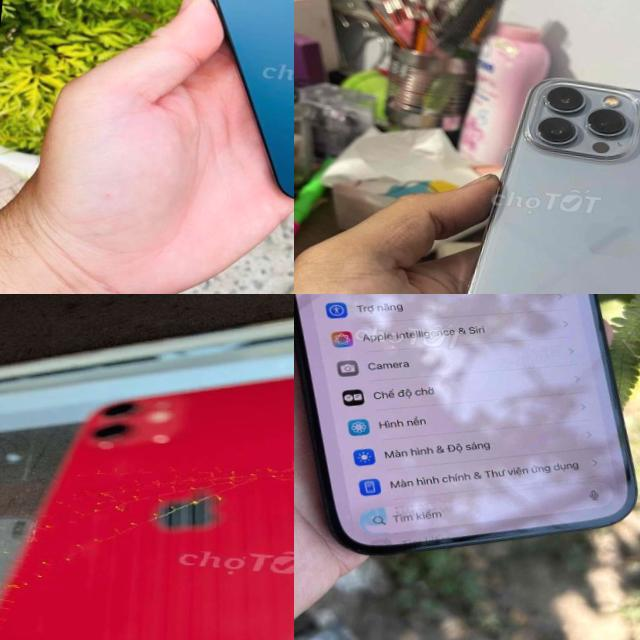gen_11: (0, 333, 294, 640)
gen_12_13: (427, 63, 640, 294), (139, 0, 294, 220)
gen_15: (294, 294, 640, 569)
